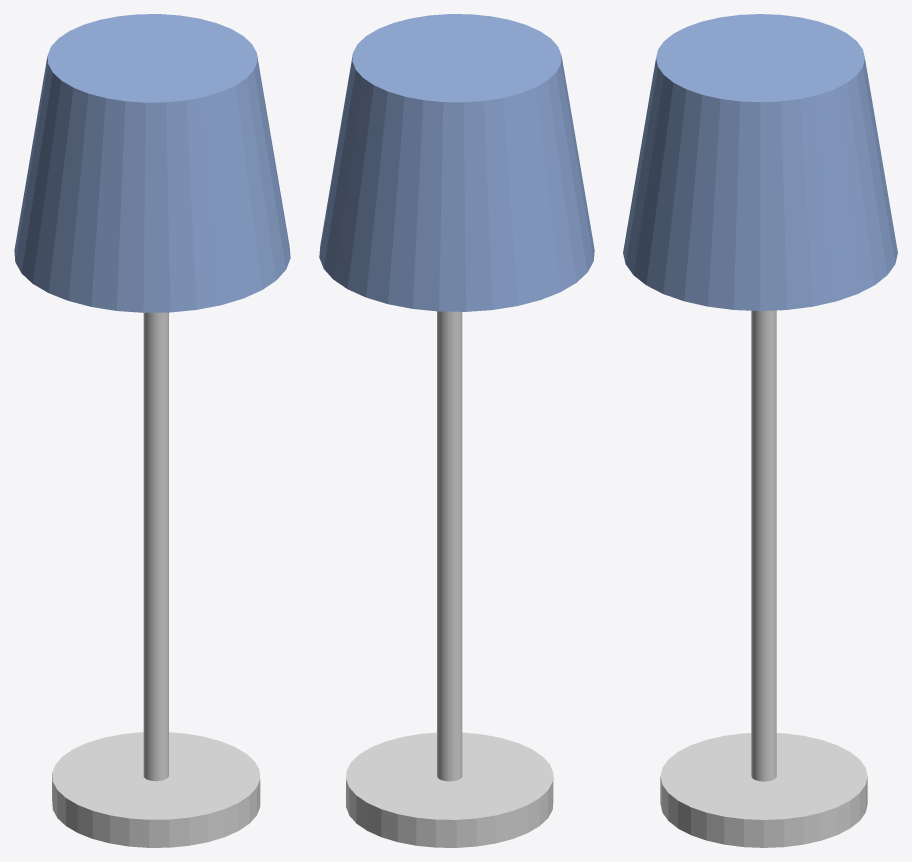
The model's file is 스탠드.fbx.
3 renders of one model, left to right at view 1: azimuth 30°, elevation 25°; view 2: azimuth 150°, elevation 25°; view 3: azimuth 270°, elevation 25°, orthographic.
Visible parts, largest first — view 1: 머리.001, 봉.001, 바닥.001; view 2: 머리.001, 봉.001, 바닥.001; view 3: 머리.001, 봉.001, 바닥.001.
Boxes of the visible parts, x1,y1,x2,y2 form: 머리.001: (14, 14, 290, 312); 봉.001: (52, 732, 260, 847); 바닥.001: (143, 312, 168, 781); 머리.001: (319, 14, 594, 311); 봉.001: (346, 732, 553, 847); 바닥.001: (437, 311, 462, 781); 머리.001: (623, 14, 897, 310); 봉.001: (660, 733, 867, 847); 바닥.001: (751, 310, 776, 781).
Size of the model in its own units: 200 by 597 by 200.
